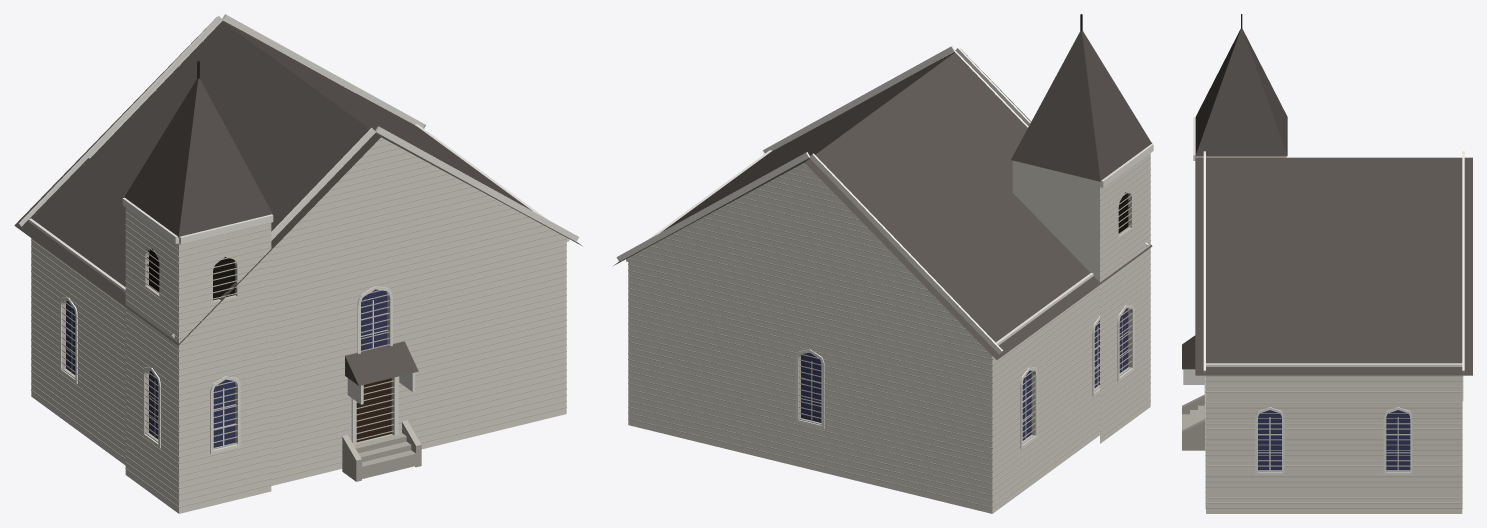
Rendered from ch-first-congregational-1913.glb.
The picture shows the model from 3 angles, left to right: view 1: azimuth 30°, elevation 25°; view 2: azimuth 150°, elevation 25°; view 3: azimuth 270°, elevation 25°; orthographic projection. The views are drawn at different scales.
Parts seen in each view (by area): view 1: ch_brick, ch_roof, ch_brick2, ch_roof2, ch_trim, ch_stain, ch_conc, ch_door, ch_shadow; view 2: ch_brick, ch_roof, ch_brick2, ch_roof2, ch_trim, ch_stain; view 3: ch_roof, ch_brick, ch_brick2, ch_roof2, ch_trim, ch_stain, ch_conc.
Boxes of the visible parts, left/top/right/bottom form: ch_brick: left=31, top=137, right=566, bottom=513; ch_roof: left=14, top=17, right=581, bottom=345; ch_brick2: left=31, top=41, right=566, bottom=507; ch_roof2: left=124, top=78, right=418, bottom=385; ch_trim: left=19, top=14, right=579, bottom=453; ch_stain: left=66, top=289, right=387, bottom=447; ch_conc: left=342, top=420, right=421, bottom=481; ch_door: left=356, top=378, right=391, bottom=442; ch_shadow: left=149, top=249, right=235, bottom=300; ch_brick: left=628, top=153, right=1150, bottom=513; ch_roof: left=613, top=49, right=1152, bottom=359; ch_brick2: left=628, top=71, right=1150, bottom=507; ch_roof2: left=1011, top=30, right=1151, bottom=181; ch_trim: left=616, top=45, right=1153, bottom=449; ch_stain: left=801, top=308, right=1128, bottom=440; ch_roof: left=1195, top=157, right=1472, bottom=375; ch_brick: left=1196, top=156, right=1462, bottom=513; ch_brick2: left=1196, top=157, right=1462, bottom=508; ch_roof2: left=1182, top=29, right=1287, bottom=369; ch_trim: left=1183, top=117, right=1464, bottom=474; ch_stain: left=1258, top=410, right=1410, bottom=470; ch_conc: left=1182, top=394, right=1205, bottom=450.
Bounding box in the file's own units: 15.02 × 14.95 × 10.98.
